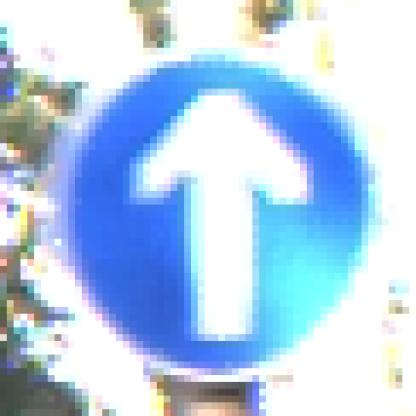AheadOnly: (42, 42, 383, 383)
